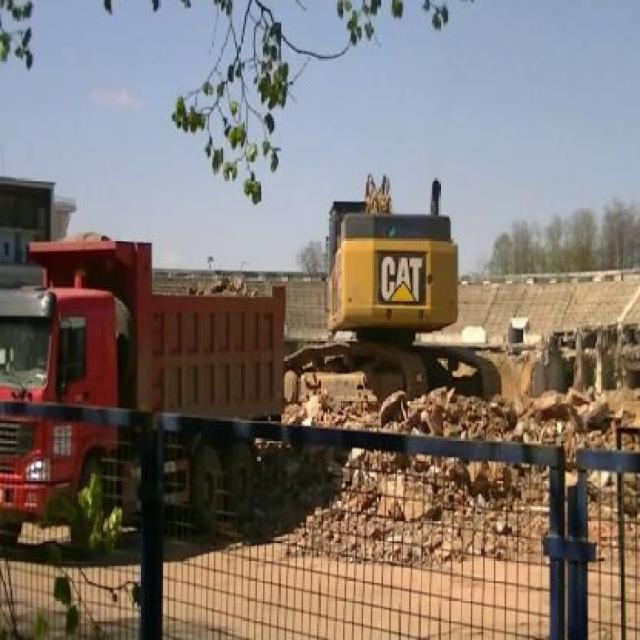dump_truck: (2, 236, 284, 562)
excavator: (284, 166, 504, 431)
